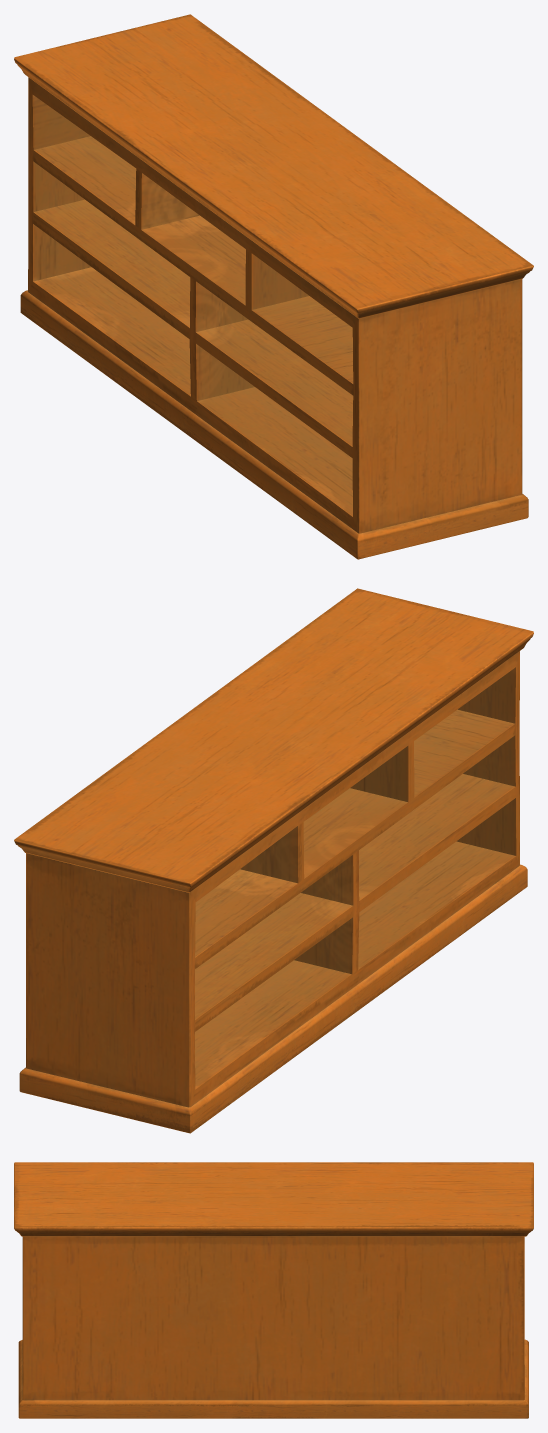
Rendered from SM_Drawer_A1.fbx.
3 renders of one model, top to bottom at view 1: azimuth 30°, elevation 25°; view 2: azimuth 150°, elevation 25°; view 3: azimuth 270°, elevation 25°, orthographic. The views are drawn at different scales.
Visible parts, largest first — view 1: SM_Drawer_A1; view 2: SM_Drawer_A1; view 3: SM_Drawer_A1.
Part boxes in pixels (bbox=[...]): SM_Drawer_A1: bbox=[14, 14, 533, 559]; SM_Drawer_A1: bbox=[14, 588, 533, 1133]; SM_Drawer_A1: bbox=[14, 1162, 533, 1418].
Size of the model in its own units: 52.16 by 175 by 71.38.
1 material, 1 textured.
